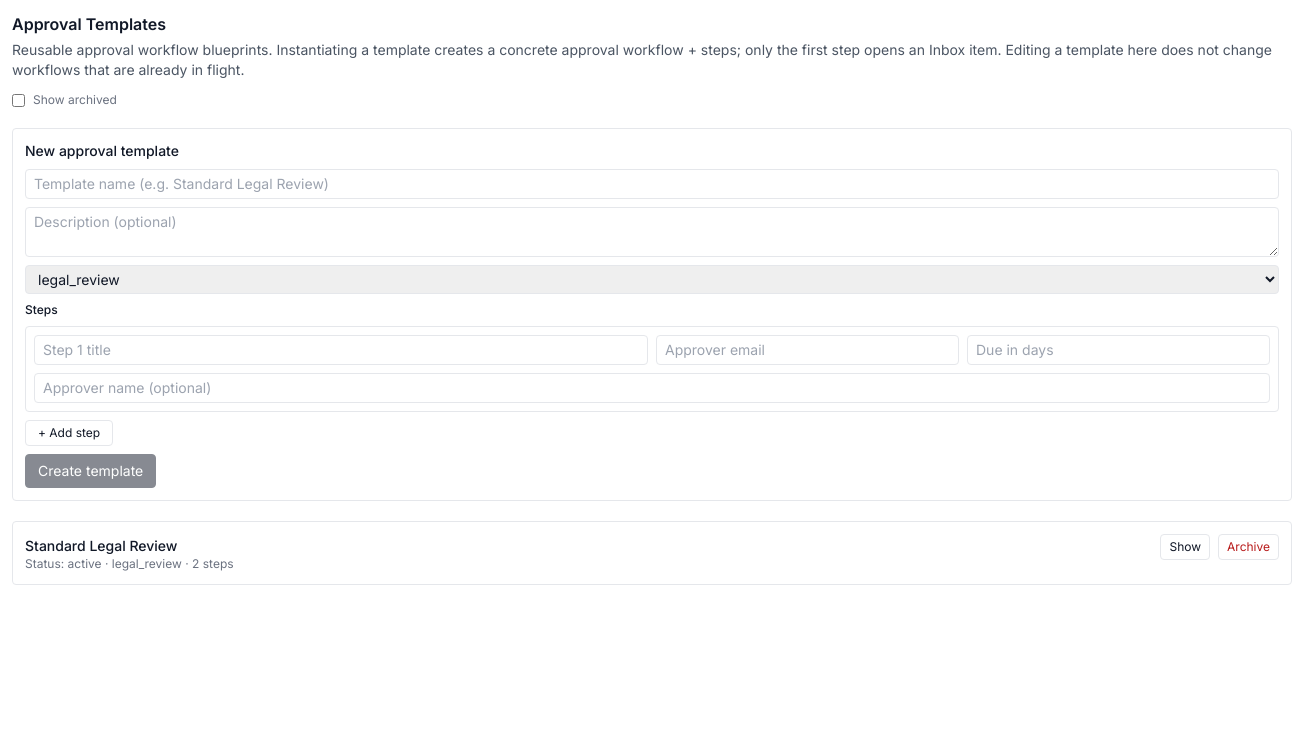
it: ApprovalWorkflowTemplatesPage › lists templates and excludes archived by default
Expected: the text "Standard Legal Review" is shown, [25, 537, 177, 554]
Click the checkbox with test id "approval-templates-include-archived" at (18, 100), box [12, 94, 25, 106]
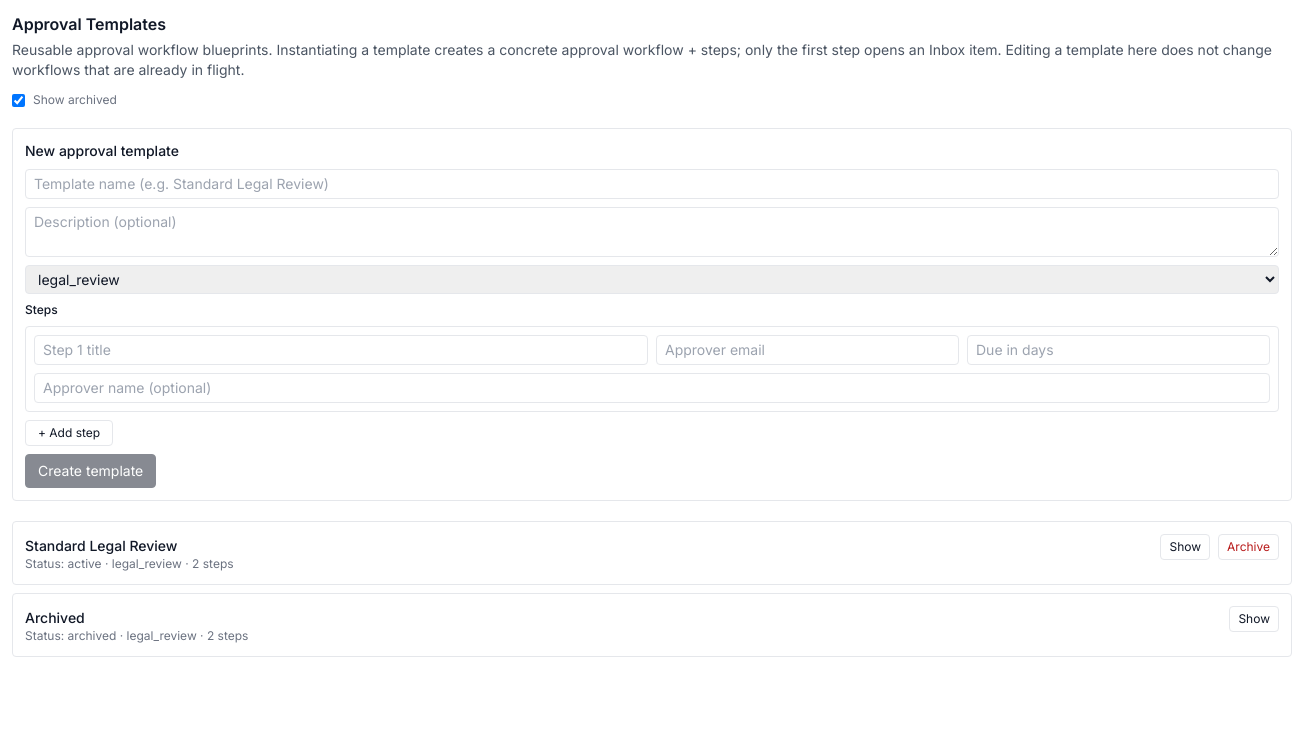
Result: the text "Archived" is shown at [25, 609, 85, 626]
